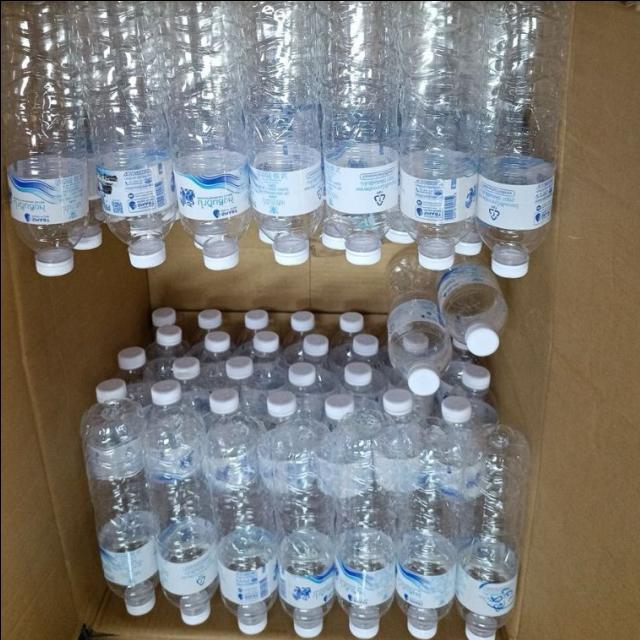plastik: (68, 0, 177, 266), (152, 0, 251, 269), (476, 0, 570, 277), (0, 0, 87, 274), (234, 0, 322, 264), (398, 0, 483, 269), (315, 0, 397, 264), (80, 398, 157, 615), (144, 403, 218, 624), (455, 423, 529, 640), (206, 412, 276, 633), (327, 418, 394, 638), (269, 414, 334, 637), (386, 248, 451, 394), (396, 483, 455, 638), (437, 255, 506, 355)
